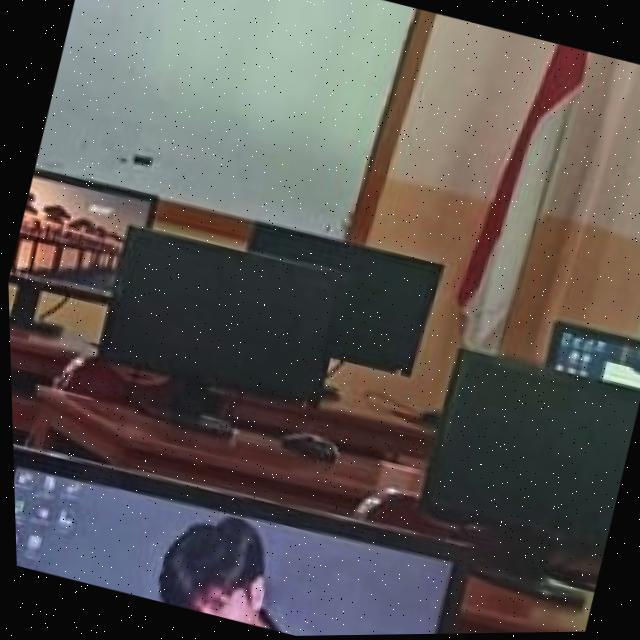offscreen: (96, 227, 342, 402), (420, 352, 638, 548), (248, 225, 438, 373)
onscreen: (10, 444, 459, 637), (9, 171, 152, 270), (545, 324, 640, 392)
